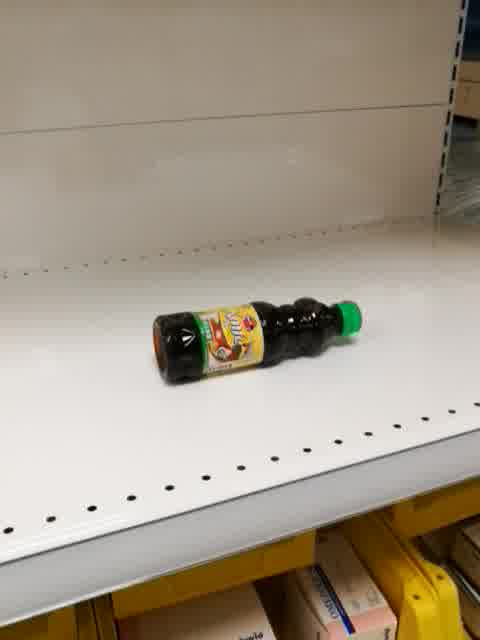cookingoil: (149, 296, 367, 387)
